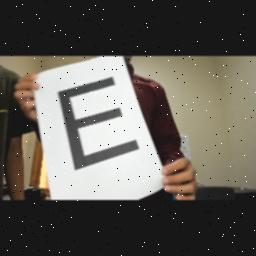e: (52, 72, 148, 174)
